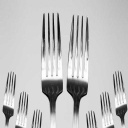fork: (32, 9, 94, 128)
